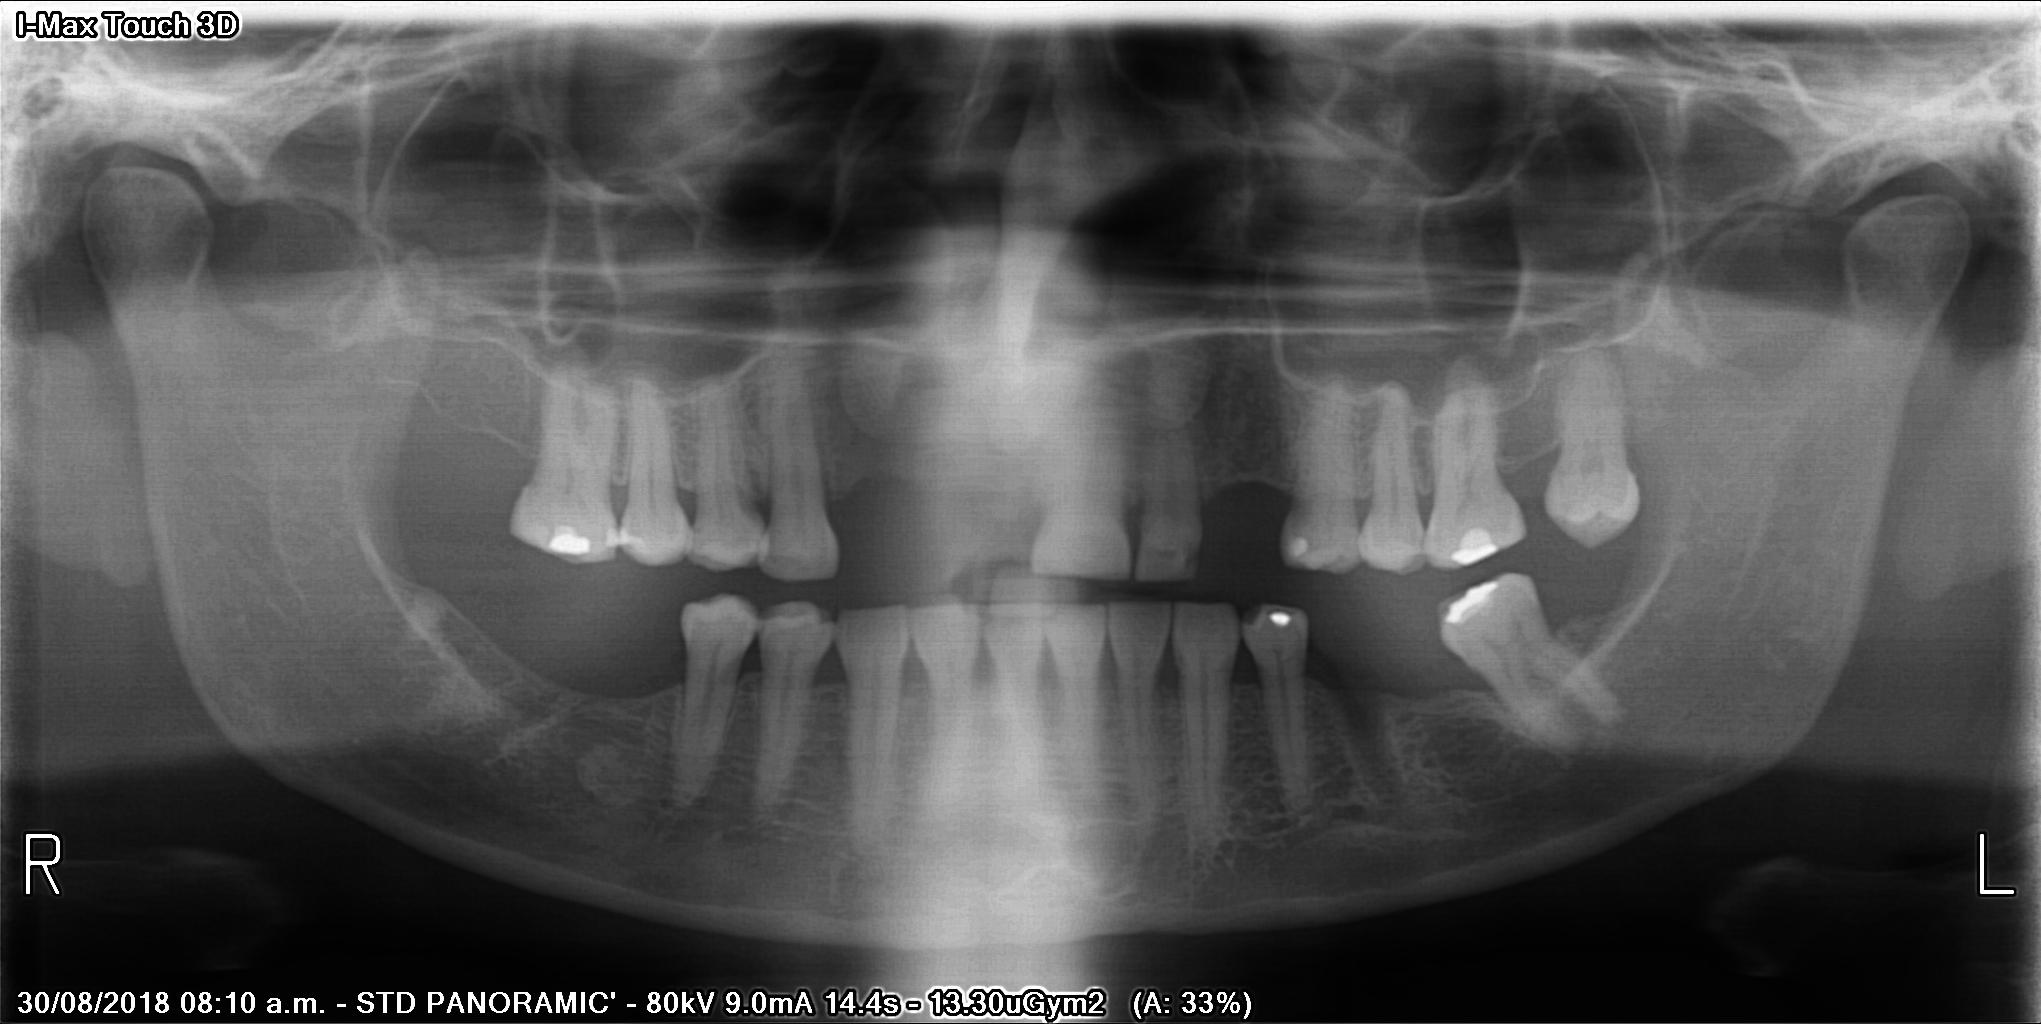Çürük: (1438, 580, 1507, 630), (1443, 520, 1512, 564), (542, 522, 600, 562), (1283, 534, 1313, 568), (1265, 604, 1302, 630)
